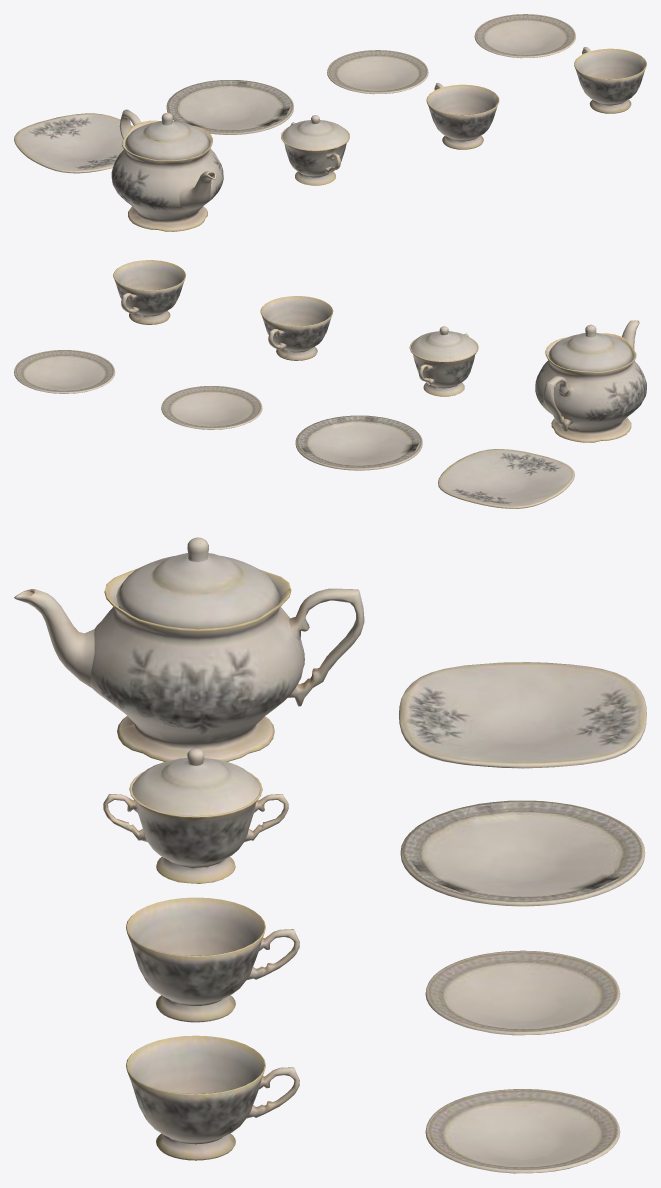
The model's file is ph_tea_set_01.glb.
3 views of the same model, one above another, from view 1: azimuth 30°, elevation 25°; view 2: azimuth 150°, elevation 25°; view 3: azimuth 270°, elevation 25° (orthographic). The views are drawn at different scales.
Visible parts, largest first — view 1: tea_set_01_plate_large_square_01; view 2: tea_set_01_plate_large_square_01; view 3: tea_set_01_plate_large_square_01.
Boxes of the visible parts, x1,y1,x2,y2 form: tea_set_01_plate_large_square_01: (14,14,646,231); tea_set_01_plate_large_square_01: (14,260,646,508); tea_set_01_plate_large_square_01: (14,537,646,1173).
Bounding box in the file's own units: 0.9184 × 0.165 × 0.484.
1 material, 1 textured.
